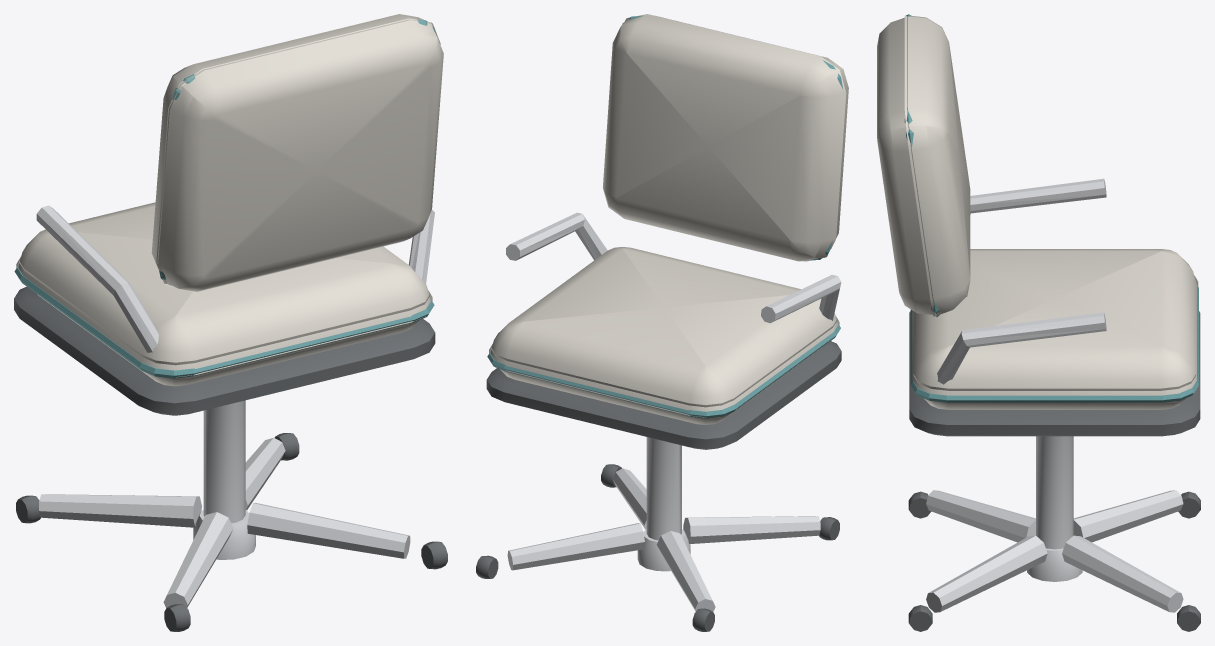
Rendered from press-chair.glb.
The picture shows the model from 3 angles, left to right: view 1: azimuth 30°, elevation 25°; view 2: azimuth 150°, elevation 25°; view 3: azimuth 270°, elevation 25°; orthographic projection. The views are drawn at different scales.
Parts seen in each view (by area): view 1: conference-chair_2, conference-chair_0, conference-chair_1, conference-chair_3; view 2: conference-chair_2, conference-chair_0, conference-chair_1, conference-chair_3; view 3: conference-chair_2, conference-chair_0, conference-chair_1, conference-chair_3.
Boxes of the visible parts, x1,y1,x2,y2 form: conference-chair_2: (16, 14, 443, 386); conference-chair_0: (36, 205, 434, 607); conference-chair_1: (14, 286, 447, 631); conference-chair_3: (14, 19, 435, 378); conference-chair_2: (489, 14, 848, 424); conference-chair_0: (506, 212, 841, 611); conference-chair_1: (476, 341, 841, 631); conference-chair_3: (487, 16, 843, 418); conference-chair_2: (877, 15, 1198, 409); conference-chair_0: (926, 178, 1183, 612); conference-chair_1: (908, 311, 1200, 631); conference-chair_3: (904, 14, 1198, 402).
Size of the model in its own units: 0.5284 by 0.8876 by 0.5123.
